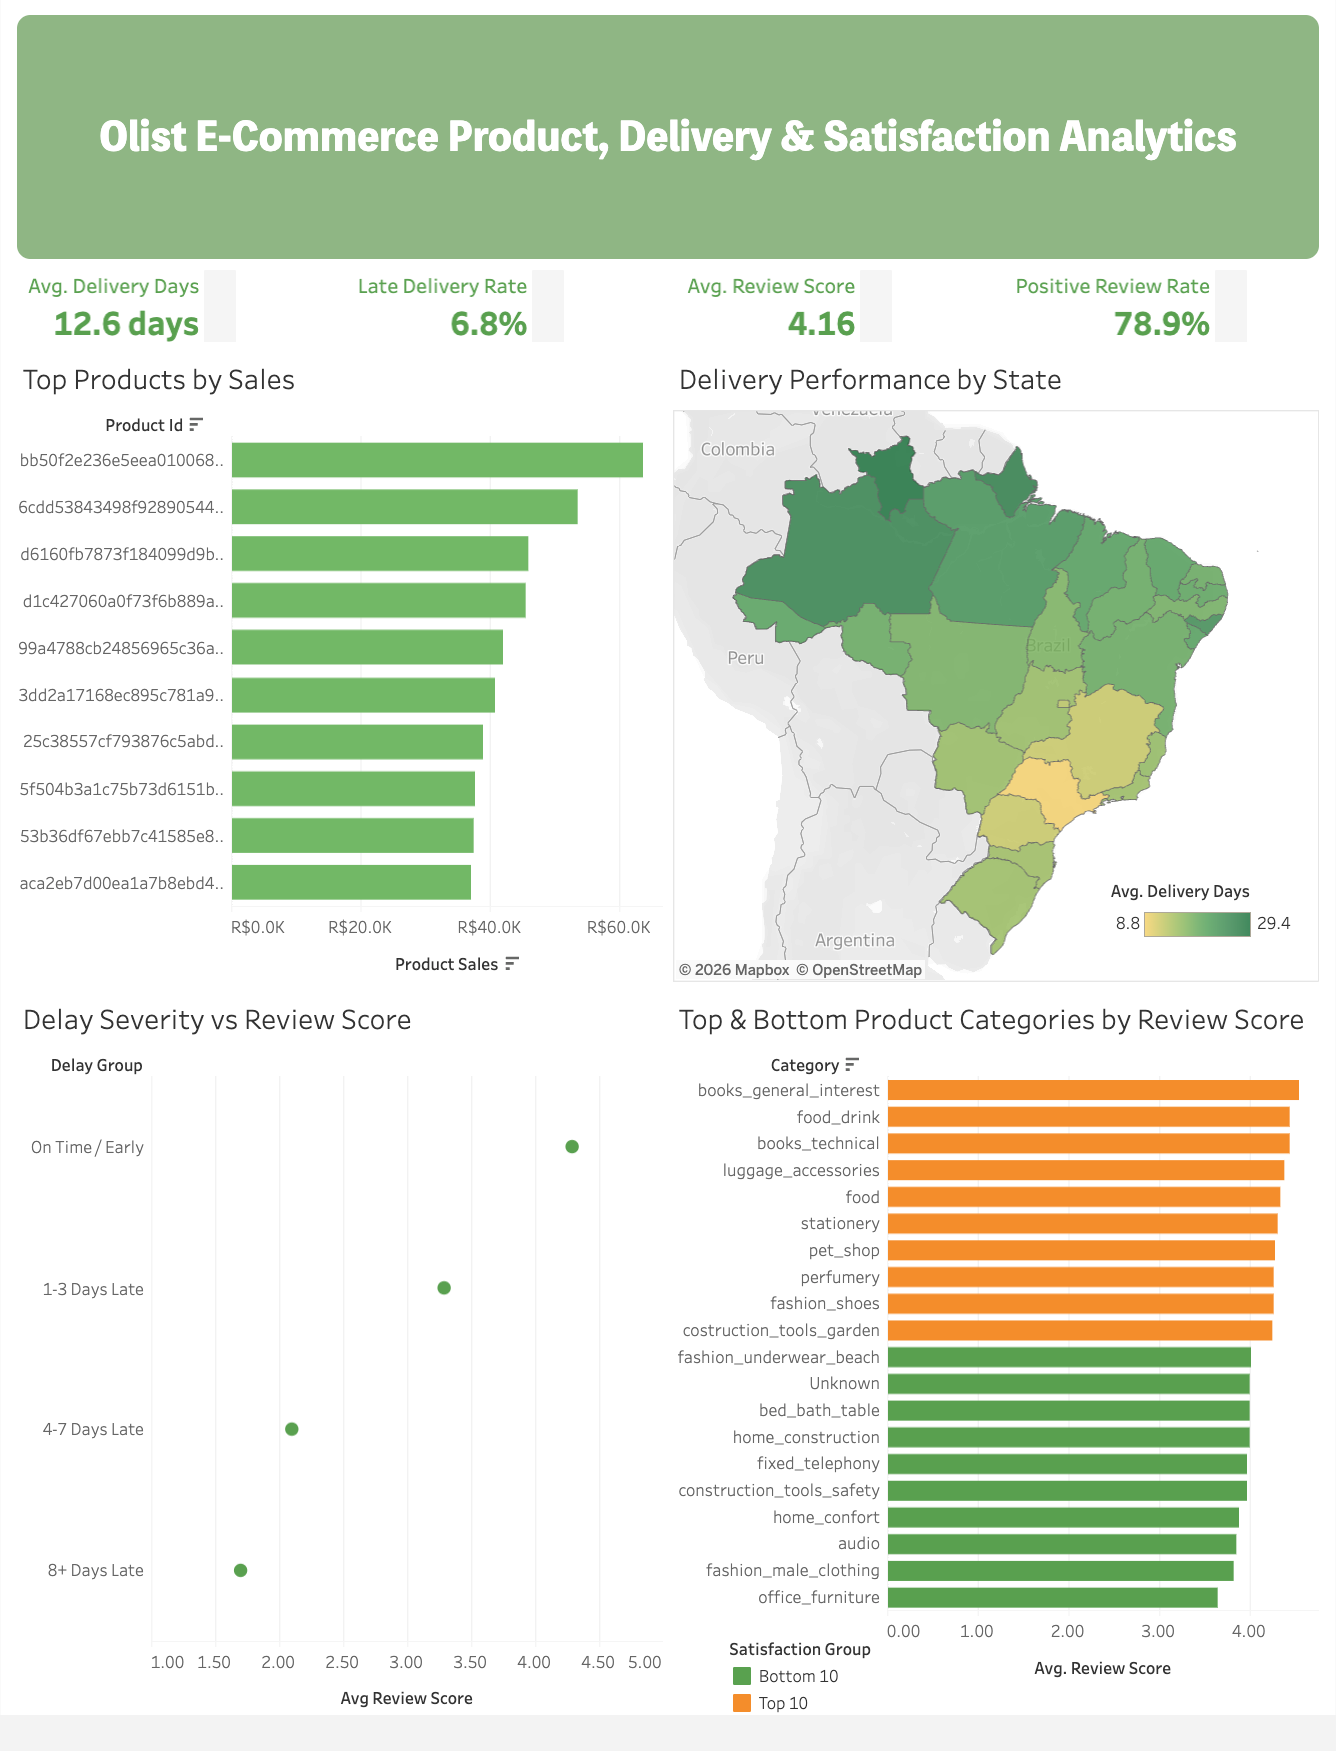

What the dashboard file says about the page in this screenshot:
{"tool":"tableau","page":{"name":"Dashboard 3","canvas":[1000,1300],"ordinal":2},"visuals":[{"type":"text","box":[8,8,984,191]},{"type":"worksheet","title":"KPI - Avg. Delivery Days","mark":"Automatic","box":[8,199,246,62]},{"type":"worksheet","title":"KPI - Late Delivery Rate","mark":"Automatic","box":[254,199,246,62]},{"type":"worksheet","title":"KPI - Avg. Review Score","mark":"Automatic","box":[500,199,246,62]},{"type":"worksheet","title":"KPI - Positive Review Rate","mark":"Automatic","box":[746,199,246,62]},{"type":"worksheet","title":"Top Products by Sales","mark":"Bar","rows":["product_id"],"cols":["product_sales"],"box":[8,260.9,521,471.1]},{"type":"worksheet","title":"Delivery Performance by State","mark":"Multipolygon","box":[529,260.9,463,471.1]},{"type":"legend","title":"Delivery Performance by State","param":"[federated.1ph4nbj1dflorx10xp0hj0w95q9p].[avg:avg_delivery_days:qk]","box":[832,661,140,50]},{"type":"worksheet","title":"Delay Severity vs Review Score","mark":"Circle","rows":["delay_group"],"cols":["avg_review_score"],"box":[8,732,492,560]},{"type":"worksheet","title":"Review Score by Product Category","mark":"Automatic","rows":["category"],"cols":["avg_review_score"],"box":[500,732,492,560]},{"type":"legend","title":"Review Score by Product Category","param":"[federated.1psowyb0qgevjn1ah2rfc1omotvn].[none:Calculation_1445833195655168:nk]","box":[546,1229,140,58]}]}

Visuals, with their boxes in screenshot pixels (x1, y1, x2, y2), scaled from the page's 1000x1300 canvas onto the 1336x1751 screenshot:
text: x1=11 y1=11 x2=1325 y2=268
"KPI - Avg. Delivery Days" worksheet: x1=11 y1=268 x2=339 y2=352
"KPI - Late Delivery Rate" worksheet: x1=339 y1=268 x2=668 y2=352
"KPI - Avg. Review Score" worksheet: x1=668 y1=268 x2=997 y2=352
"KPI - Positive Review Rate" worksheet: x1=997 y1=268 x2=1325 y2=352
"Top Products by Sales" worksheet (Bar marks): x1=11 y1=351 x2=707 y2=986
"Delivery Performance by State" worksheet (Multipolygon marks): x1=707 y1=351 x2=1325 y2=986
"Delivery Performance by State" legend: x1=1112 y1=890 x2=1299 y2=958
"Delay Severity vs Review Score" worksheet (Circle marks): x1=11 y1=986 x2=668 y2=1740
"Review Score by Product Category" worksheet: x1=668 y1=986 x2=1325 y2=1740
"Review Score by Product Category" legend: x1=729 y1=1655 x2=916 y2=1733
